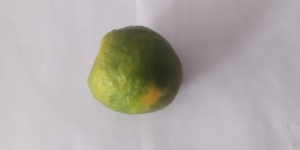BAD: (87, 25, 182, 113)
